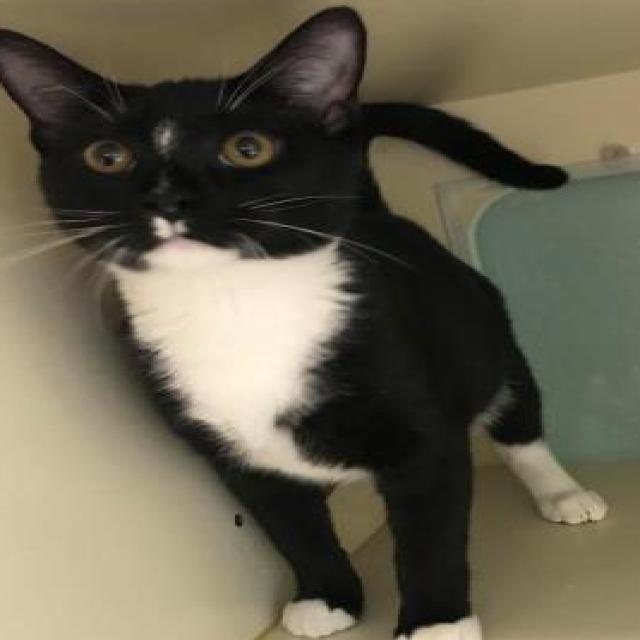Tuxedo: (0, 0, 614, 640)
